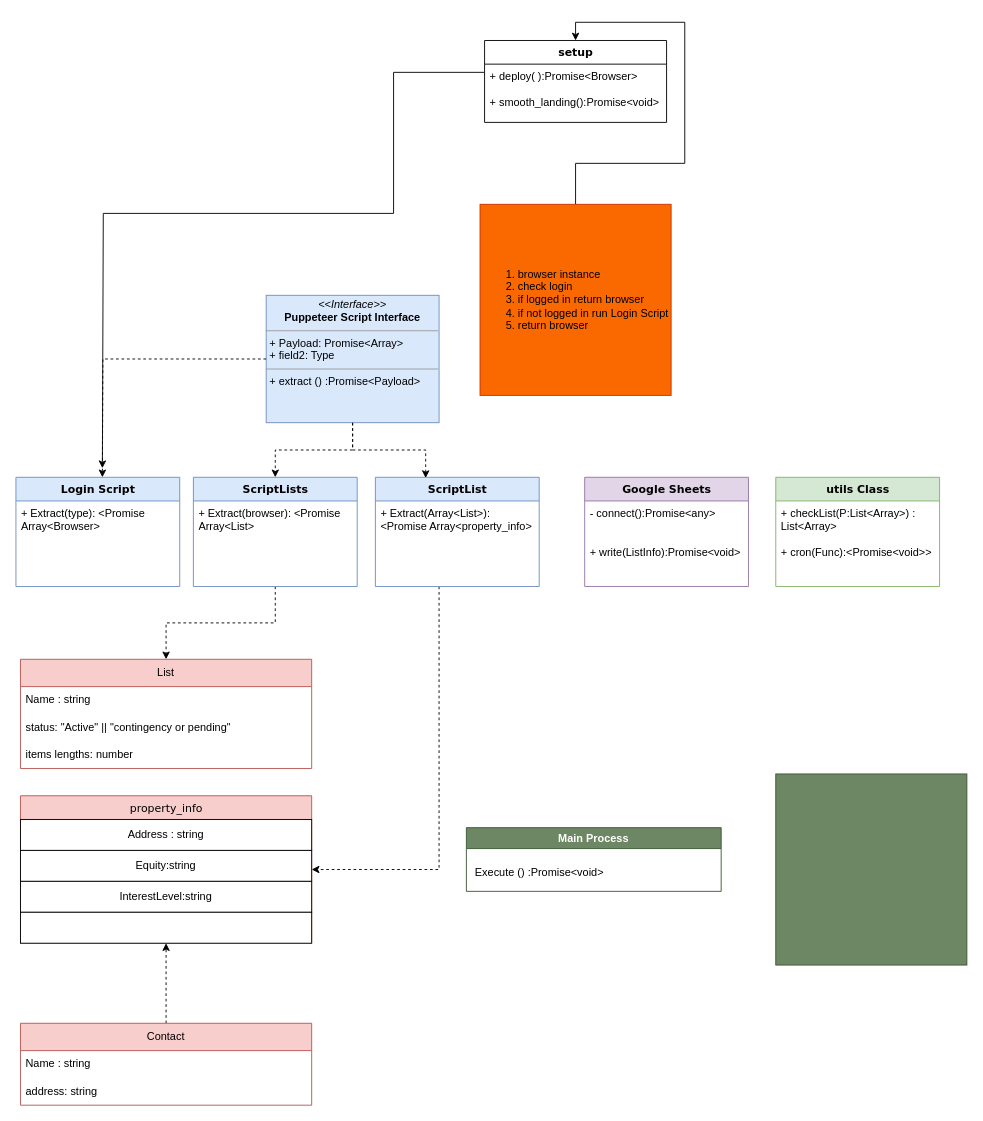
This 983x1121 diagram has some shape labels left out. The centre of each missing label's shape, as x and y in pixels:
Contacts: Array[Contact]: point (166, 927)
setup call scrap list call utils.checklist scraplist call google sheets.write: point (871, 869)
